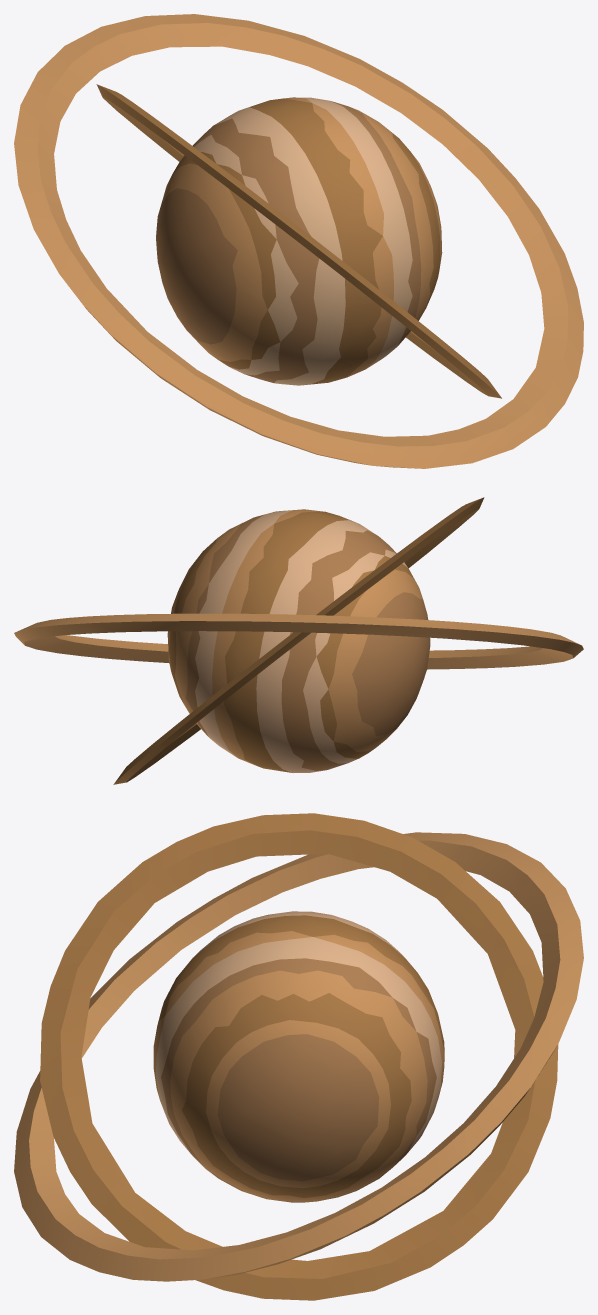
The model's file is planet-7.glb.
The picture shows the model from 3 angles, top to bottom: view 1: azimuth 30°, elevation 25°; view 2: azimuth 150°, elevation 25°; view 3: azimuth 270°, elevation 25°; orthographic projection. The views are drawn at different scales.
Parts seen in each view (by area): view 1: Planet_7; view 2: Planet_7; view 3: Planet_7.
Part boxes in pixels (x1=…): Planet_7: x1=14, y1=14, x2=583, y2=468; Planet_7: x1=14, y1=497, x2=583, y2=784; Planet_7: x1=14, y1=813, x2=583, y2=1300.
Bounding box in the file's own units: 4.81 × 2.87 × 4.46.
Materials: 1 (1 with a texture image).
